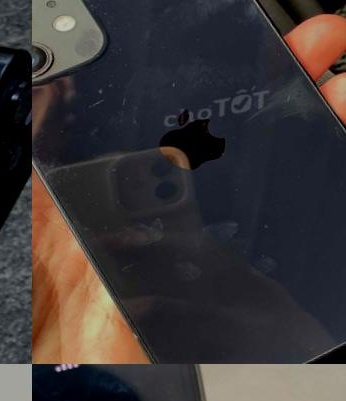scratch: (32, 0, 176, 299), (292, 74, 346, 343)
